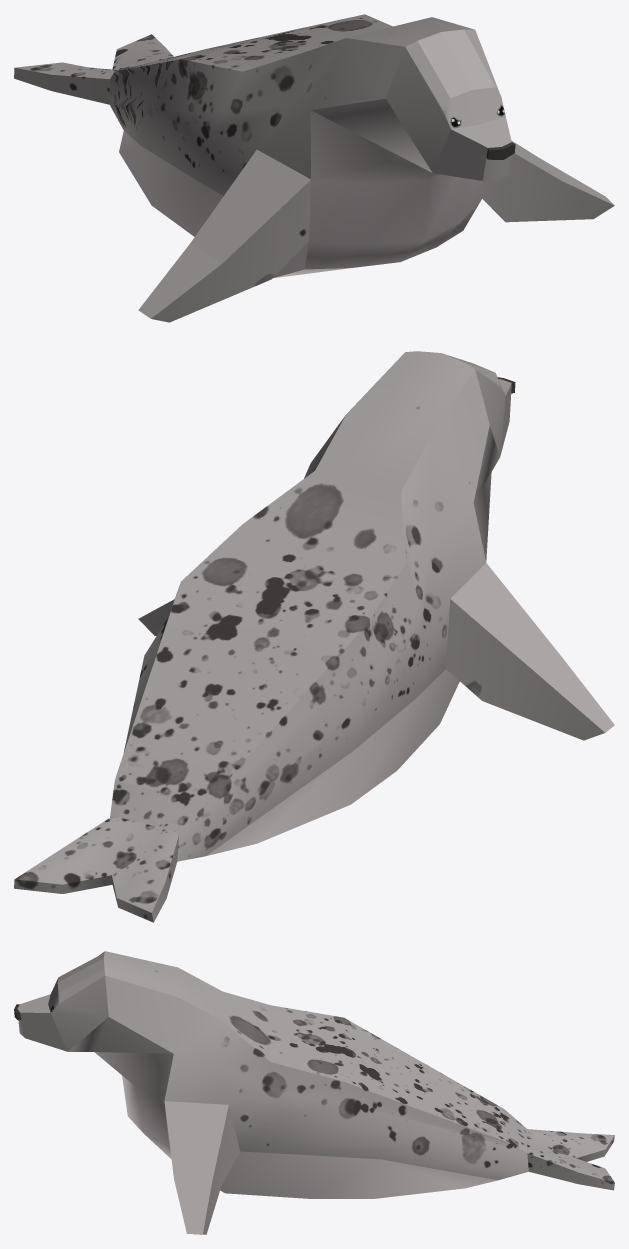
File: SealYourFate.fbx
3 views of the same model, one above another, from view 1: azimuth 30°, elevation 25°; view 2: azimuth 150°, elevation 25°; view 3: azimuth 270°, elevation 25° (orthographic). The views are drawn at different scales.
Parts seen in each view (by area): view 1: pCube1; view 2: pCube1; view 3: pCube1.
Part boxes in pixels (bbox=[...]): pCube1: bbox=[14, 14, 614, 322]; pCube1: bbox=[14, 351, 614, 922]; pCube1: bbox=[14, 951, 614, 1234].
Bounding box in the file's own units: 5.99 × 3.57 × 9.35.
